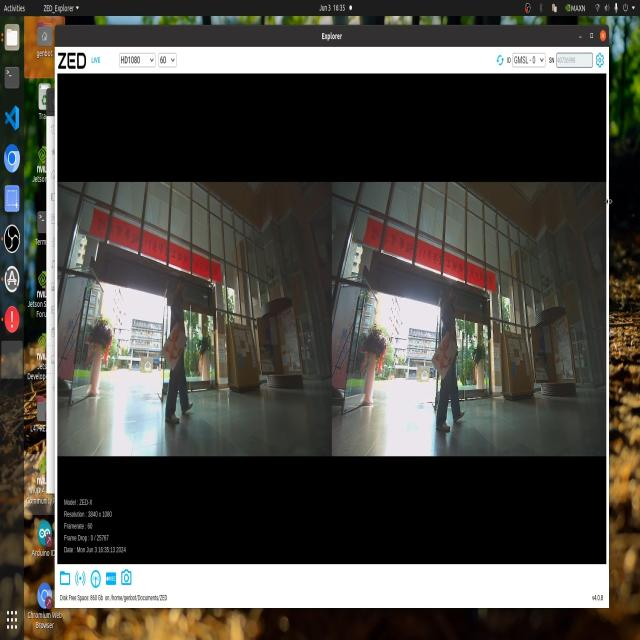red: (426, 336, 461, 368), (154, 328, 183, 358)
